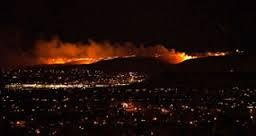fire: (158, 46, 233, 60)
